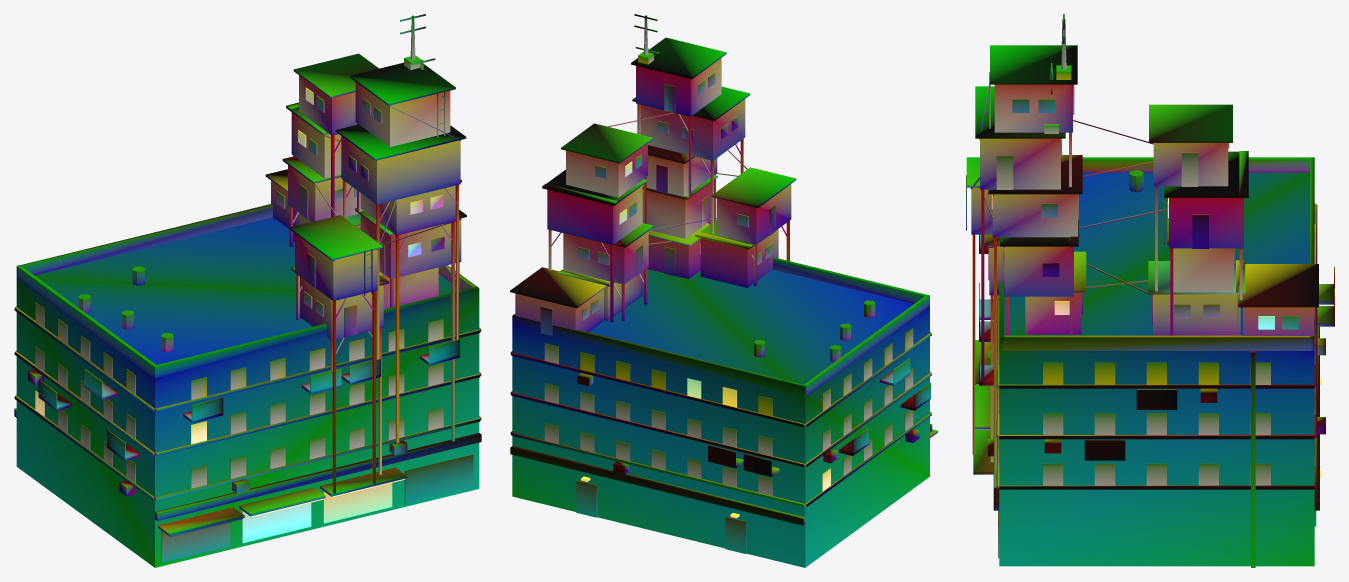
File: Slum_Low_V3.fbx
The picture shows the model from 3 angles, left to right: view 1: azimuth 30°, elevation 25°; view 2: azimuth 150°, elevation 25°; view 3: azimuth 270°, elevation 25°; orthographic projection. The views are drawn at different scales.
Parts seen in each view (by area): view 1: Slum_Low_V3_LOD0; view 2: Slum_Low_V3_LOD0; view 3: Slum_Low_V3_LOD0.
Boxes of the visible parts, <box> form: Slum_Low_V3_LOD0: <box>14,14,481,567</box>; Slum_Low_V3_LOD0: <box>510,14,937,567</box>; Slum_Low_V3_LOD0: <box>966,14,1334,567</box>.
Size of what is drawn, in the model's own units: 25.2 by 31.27 by 19.9.
